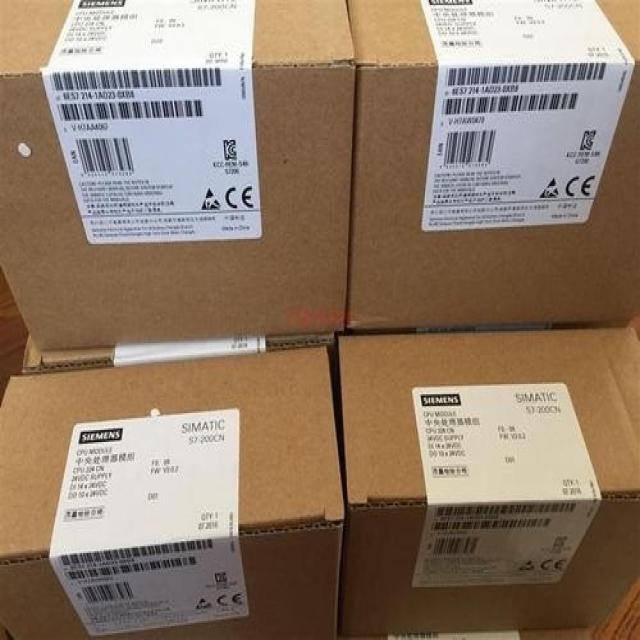box: (0, 345, 346, 638), (344, 0, 640, 328), (338, 328, 640, 633), (20, 329, 346, 515), (344, 321, 632, 335)
